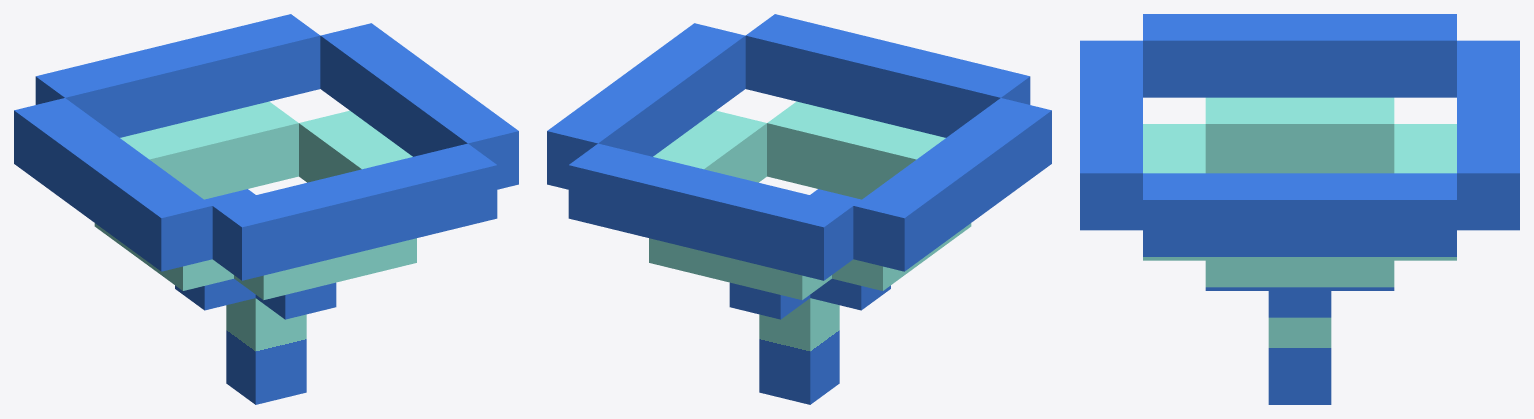
The model's file is speed.dae.
3 views of the same model, side by side, from view 1: azimuth 30°, elevation 25°; view 2: azimuth 150°, elevation 25°; view 3: azimuth 270°, elevation 25° (orthographic). The views are drawn at different scales.
Parts seen in each view (by area): view 1: speed; view 2: speed; view 3: speed.
Part boxes in pixels (x1,y1,x2,y2): speed: (14,14,518,404); speed: (547,14,1051,404); speed: (1080,14,1519,404).
Bounding box in the file's own units: 7 × 5 × 7.
Materials: 1 (1 with a texture image).
